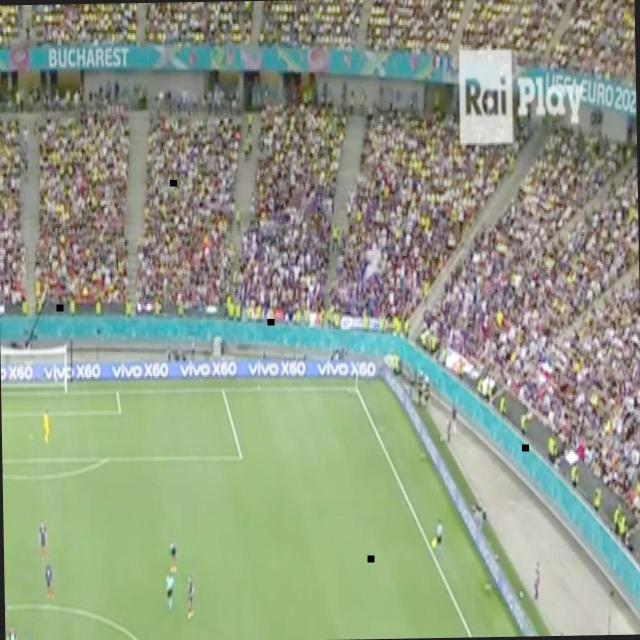ball: (518, 588, 524, 598), (438, 434, 444, 442)
player-white: (184, 572, 196, 622), (162, 568, 175, 614), (37, 519, 49, 563), (434, 514, 444, 562), (43, 562, 55, 601), (167, 540, 179, 575), (42, 405, 51, 447), (5, 622, 18, 640), (4, 590, 8, 634), (25, 635, 38, 640)
